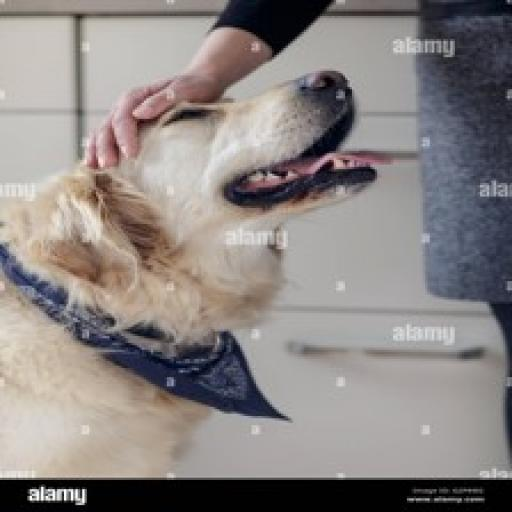dog: (0, 57, 379, 480)
